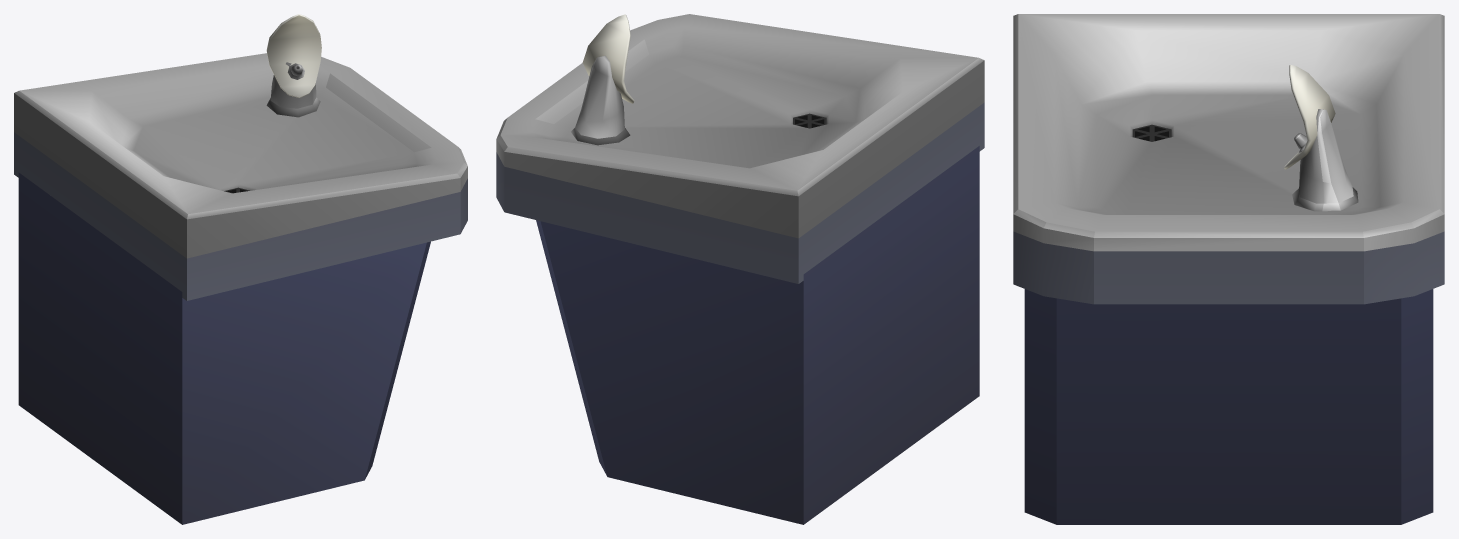
File: CR_Drinking Fountain_01.fbx
3 views of the same model, side by side, from view 1: azimuth 30°, elevation 25°; view 2: azimuth 150°, elevation 25°; view 3: azimuth 270°, elevation 25° (orthographic). The views are drawn at different scales.
Parts seen in each view (by area): view 1: CR_Drinking Fountain_01; view 2: CR_Drinking Fountain_01; view 3: CR_Drinking Fountain_01.
Part boxes in pixels (left/top/right/bottom): CR_Drinking Fountain_01: left=14, top=14, right=467, bottom=524; CR_Drinking Fountain_01: left=496, top=14, right=984, bottom=524; CR_Drinking Fountain_01: left=1013, top=14, right=1444, bottom=524.
Bounding box in the file's own units: 41.71 × 49.22 × 40.73.
